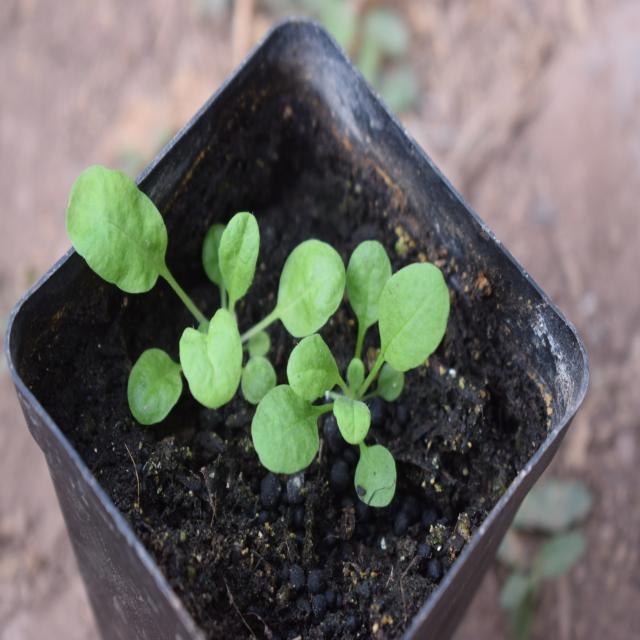Shepherd_Purse: (75, 145, 323, 423), (271, 229, 452, 495)
